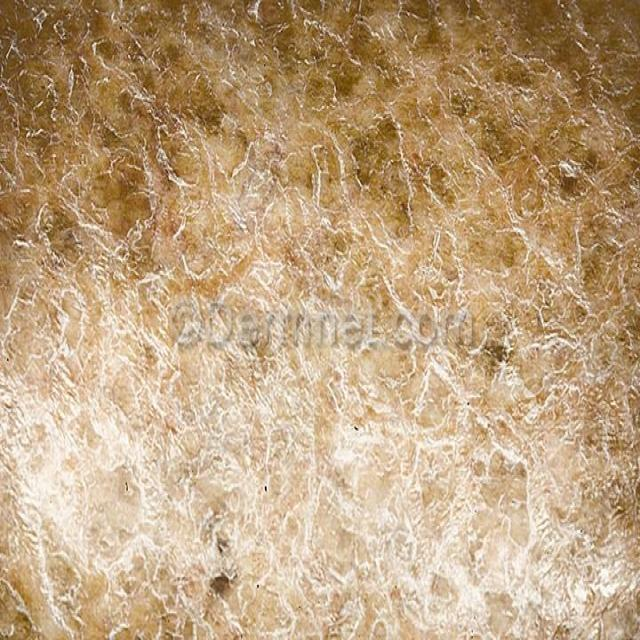Eczema: (10, 6, 628, 640)
